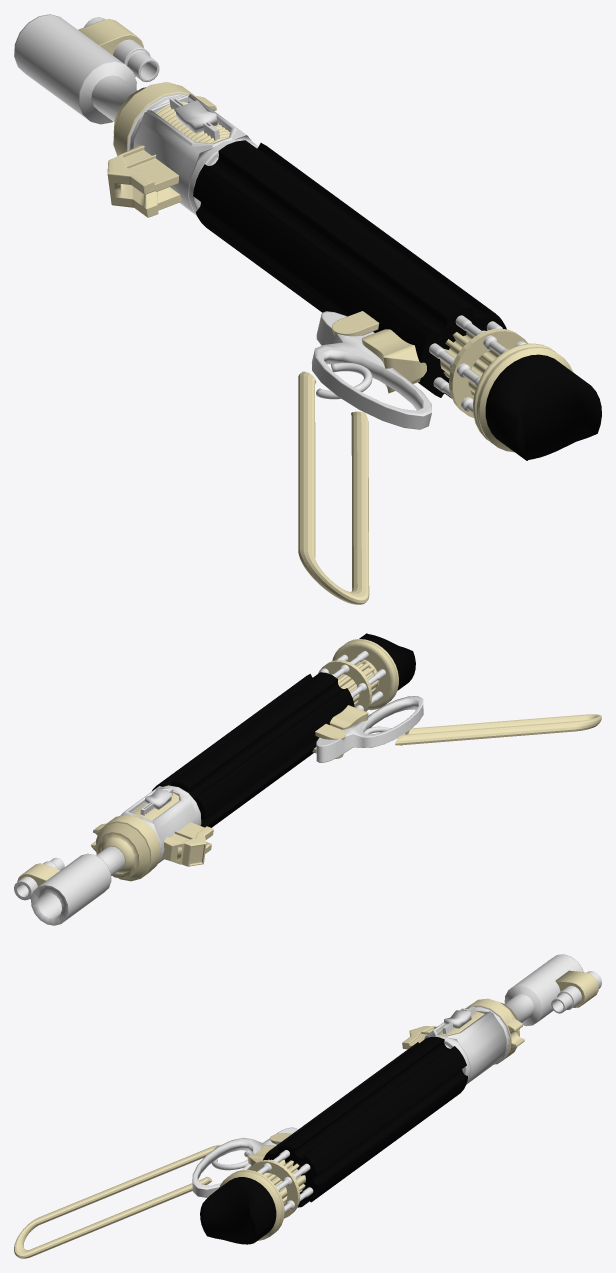
File: sonicgun.glb
3 views of the same model, one above another, from view 1: azimuth 30°, elevation 25°; view 2: azimuth 150°, elevation 25°; view 3: azimuth 330°, elevation 25° (orthographic). The views are drawn at different scales.
Parts seen in each view (by area): view 1: Barrillet_Mesh.001, Cylinder.009, Cylinder, Torus, Cylinder.007, Cylinder.005, Cube.003, Cylinder.001, Cube.004, Circle, Cube.002, Cylinder.006; view 2: Barrillet_Mesh.001, Cylinder, Torus, Cylinder.009, Cylinder.007, Cylinder.005, Cube.003, Cylinder.001, Circle, Cube.004, Cylinder.006; view 3: Barrillet_Mesh.001, Cylinder.009, Cylinder, Torus, Cylinder.005, Cylinder.001, Cylinder.007, Circle.
Part boxes in pixels (box(x1,y1,x2,y2)): Barrillet_Mesh.001: box(193, 140, 506, 398); Cylinder.009: box(440, 331, 601, 460); Cylinder: box(14, 14, 200, 156); Torus: box(298, 371, 369, 604); Cylinder.007: box(311, 311, 431, 429); Cylinder.005: box(130, 94, 258, 215); Cube.003: box(107, 145, 182, 217); Cylinder.001: box(78, 17, 159, 82); Cube.004: box(362, 329, 426, 393); Circle: box(449, 328, 528, 417); Cube.002: box(175, 100, 217, 133); Cylinder.006: box(332, 311, 379, 336); Barrillet_Mesh.001: box(152, 672, 354, 827); Cylinder: box(31, 814, 160, 925); Torus: box(395, 714, 601, 745); Cylinder.009: box(332, 633, 415, 710); Cylinder.007: box(316, 696, 423, 762); Cylinder.005: box(120, 785, 201, 863); Cube.003: box(161, 822, 213, 866); Cylinder.001: box(14, 858, 64, 900); Circle: box(318, 660, 371, 711); Cube.004: box(330, 705, 368, 729); Cylinder.006: box(312, 724, 345, 758); Barrillet_Mesh.001: box(263, 1036, 467, 1207); Cylinder.009: box(200, 1160, 305, 1244); Cylinder: box(465, 954, 583, 1064); Torus: box(14, 1145, 219, 1258); Cylinder.005: box(424, 1007, 508, 1084); Cylinder.001: box(551, 970, 601, 1013); Cylinder.007: box(192, 1127, 297, 1197); Circle: box(248, 1160, 300, 1218).
Bounding box in the file's own units: 3.42 × 1.25 × 9.94.
